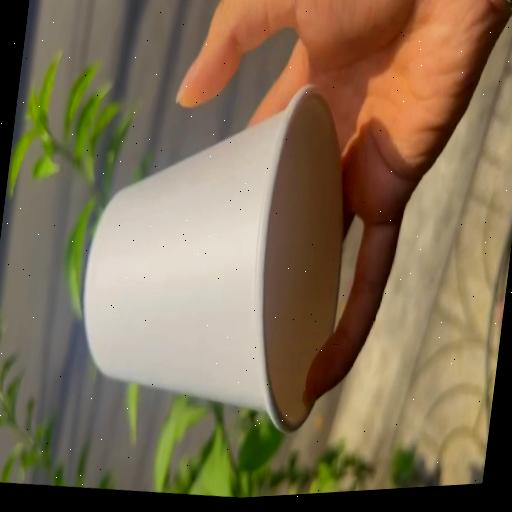Ly_giay: (84, 85, 344, 430)
